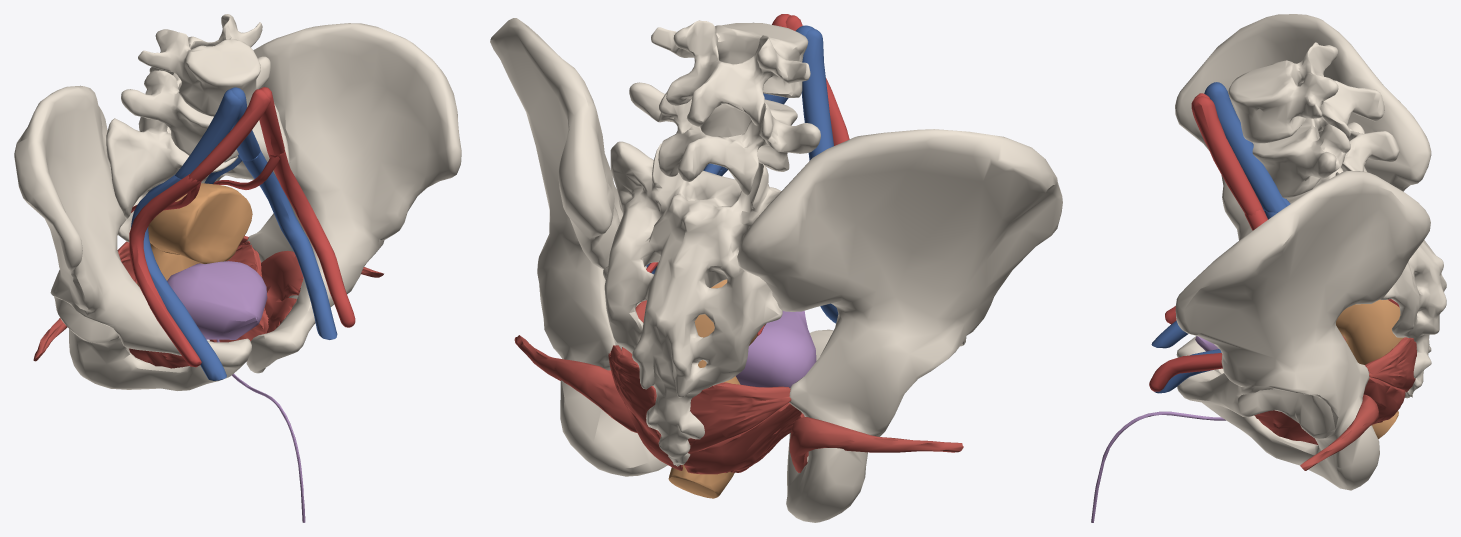
Rendered from obstetri.glb.
The picture shows the model from 3 angles, left to right: view 1: azimuth 30°, elevation 25°; view 2: azimuth 150°, elevation 25°; view 3: azimuth 270°, elevation 25°; orthographic projection. The views are drawn at different scales.
Visible parts, largest first — view 1: Left hip bone, Right hip bone, Fourth lumbar vertebra, Rectum, Sacrum, Urinary bladder, Fifth lumbar vertebra, Left external iliac vein, Right external iliac artery, Left external iliac artery, Right external iliac vein, Left obturator internus (+8 smaller); view 2: Right hip bone, Sacrum, Left hip bone, Fourth lumbar vertebra, Fifth lumbar vertebra, Right coccygeus, Urinary bladder, Right obturator internus, Right iliococcygeus, Left obturator internus, Right common iliac vein, Left coccygeus (+3 smaller); view 3: Left hip bone, Right hip bone, Fourth lumbar vertebra, Fifth lumbar vertebra, Sacrum, Rectum, Left common iliac vein, Left common iliac artery, Left obturator internus, Left coccygeus, Left external iliac artery, Left iliococcygeus (+3 smaller).
Boxes of the visible parts, x1,y1,x2,y2 form: Left hip bone: (246,23,461,373); Right hip bone: (14,85,251,390); Fourth lumbar vertebra: (138,14,262,116); Rectum: (137,183,252,286); Sacrum: (106,103,290,242); Urinary bladder: (167,261,267,339); Fifth lumbar vertebra: (121,56,270,162); Left external iliac vein: (241,150,337,339); Right external iliac artery: (129,174,201,367); Left external iliac artery: (268,151,355,327); Right external iliac vein: (131,174,226,380); Left obturator internus: (261,250,383,333); Right hip bone: (737,129,1062,522); Sacrum: (603,141,782,466); Left hip bone: (490,18,667,476); Fourth lumbar vertebra: (651,20,810,126); Fifth lumbar vertebra: (629,82,820,195); Right coccygeus: (688,382,791,453); Urinary bladder: (736,311,816,387); Right obturator internus: (789,412,963,472); Right iliococcygeus: (684,403,801,474); Left obturator internus: (514,300,646,432); Right common iliac vein: (801,28,833,160); Left coccygeus: (608,345,661,440); Left hip bone: (1175,171,1430,490); Right hip bone: (1175,14,1431,374); Fourth lumbar vertebra: (1228,42,1384,143); Fifth lumbar vertebra: (1252,117,1399,198); Sacrum: (1286,122,1446,398); Rectum: (1336,299,1403,439); Left common iliac vein: (1205,83,1286,212); Left common iliac artery: (1192,96,1263,215); Left obturator internus: (1254,394,1378,470); Left coccygeus: (1365,337,1416,392); Left external iliac artery: (1149,210,1267,391); Left iliococcygeus: (1363,377,1405,424).
Bounding box in the file's own units: 2 × 1.9 × 1.32.
